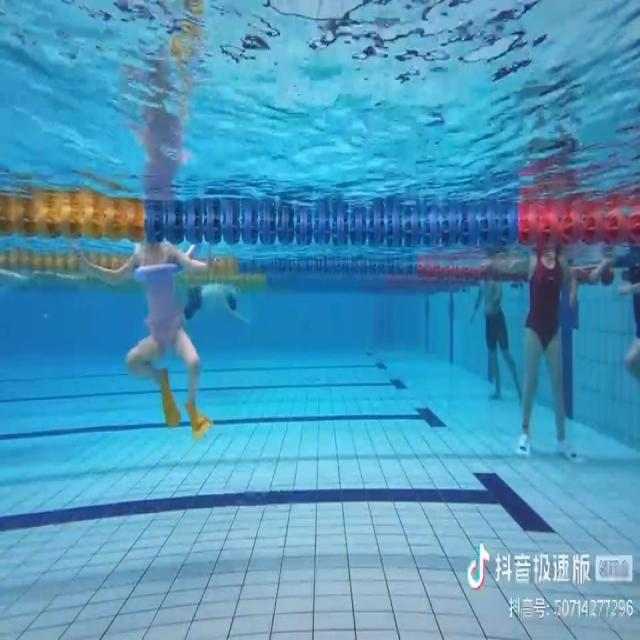Swimming: (73, 234, 219, 438), (174, 284, 256, 329)
